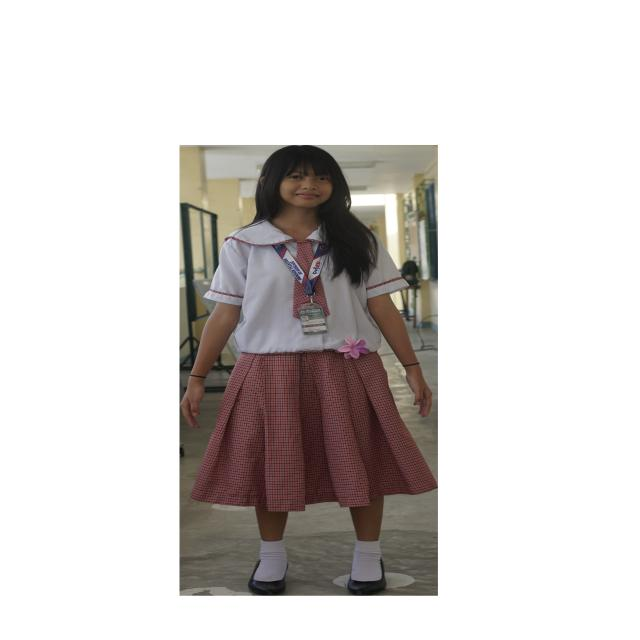id lace: (273, 243, 328, 296)
pologirl: (205, 222, 408, 354)
shoes: (347, 559, 387, 595), (248, 560, 286, 596)
skirt: (191, 350, 436, 512)
